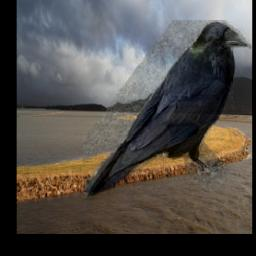Crow: (82, 20, 250, 198)
